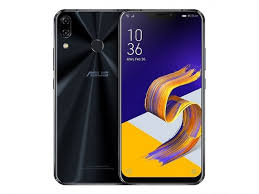asus: (52, 7, 206, 187), (118, 9, 207, 188), (52, 7, 122, 190)
